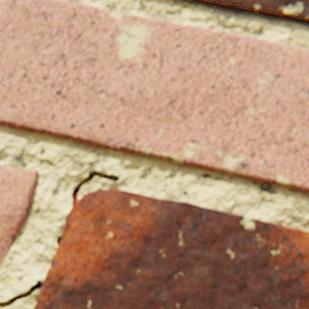brick: (0, 0, 308, 193), (34, 190, 308, 308), (0, 167, 38, 266), (176, 0, 308, 26)
crack: (72, 173, 117, 201), (0, 283, 42, 307), (57, 238, 60, 246)
